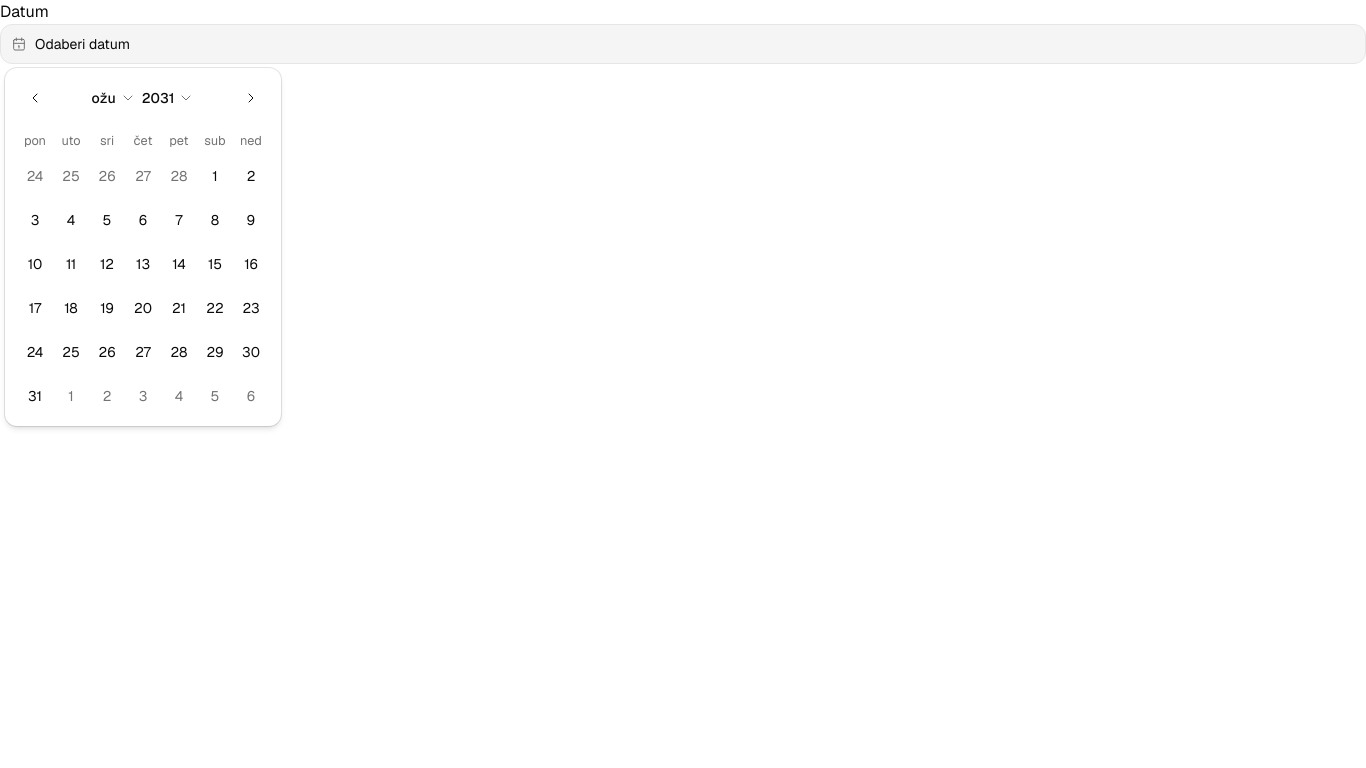
Test case: DatePicker › month / year dropdowns › picking a far year from the dropdown, then a day
Earlier steps of the test are not shown.
Click the button "14" at (179, 264), box [161,246,197,282]
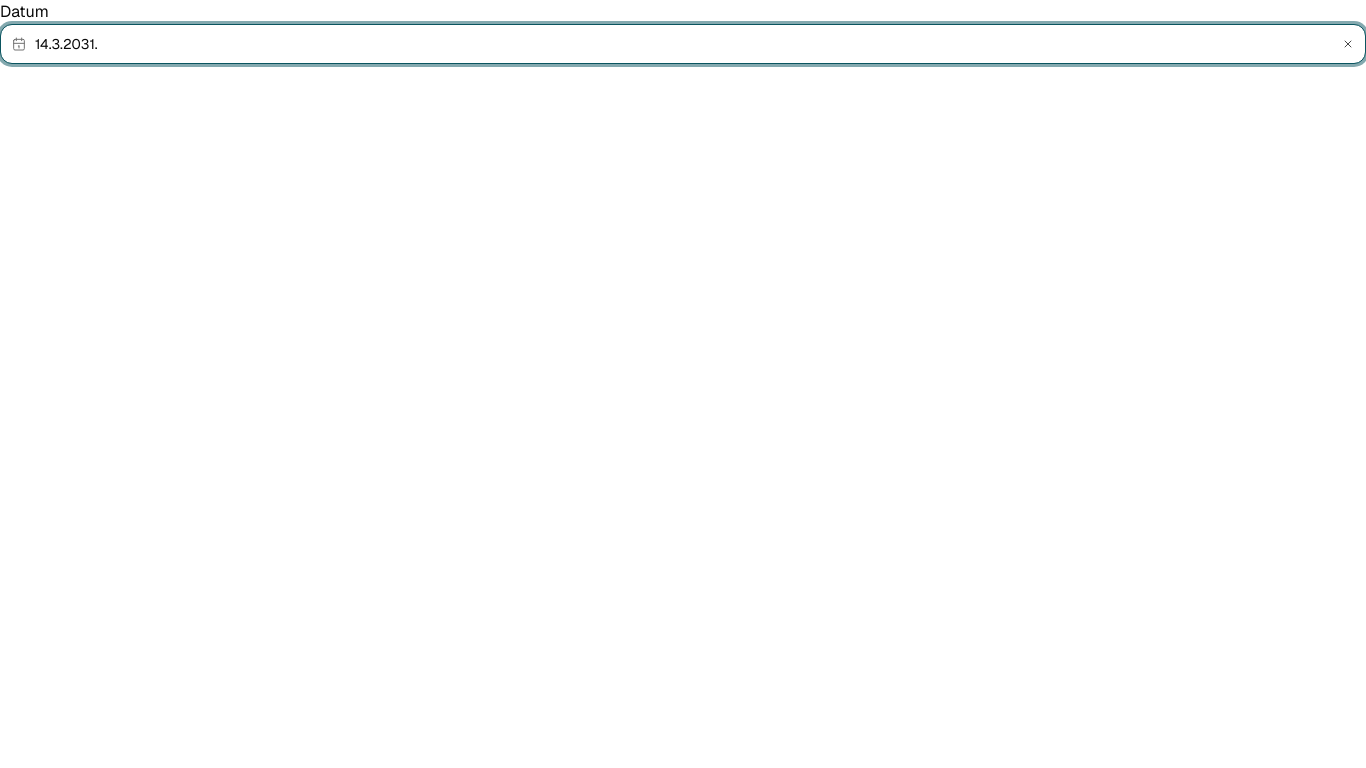
Now the button named "Datum" reads "14.3.2031.", box [0,24,1365,64]
